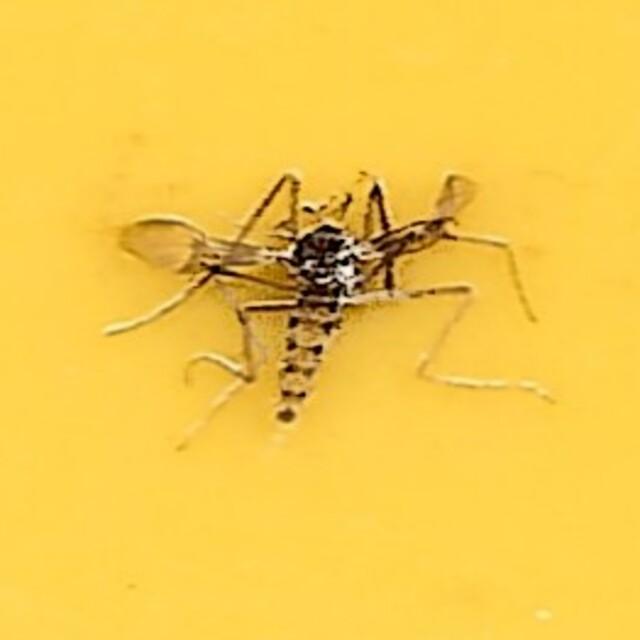Nematocera: (244, 204, 396, 436)
